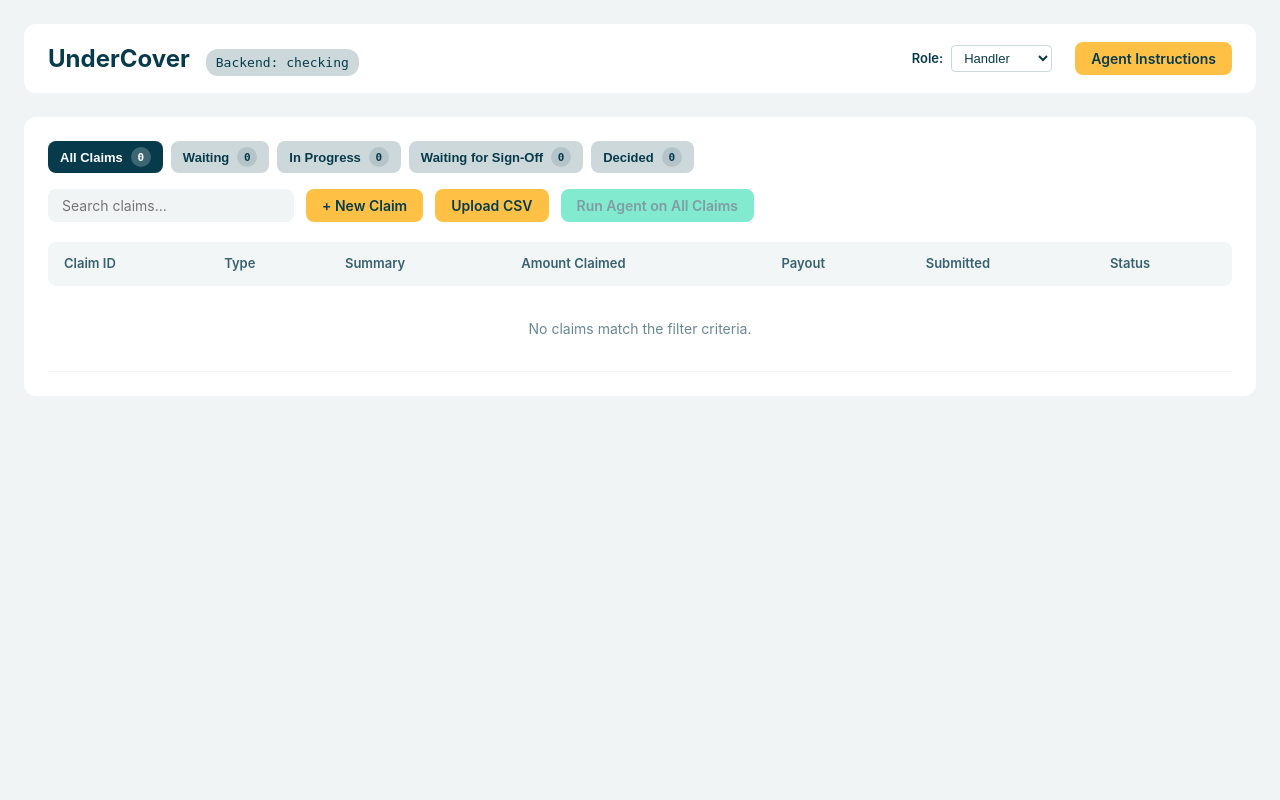
opens and closes the agent instructions modal
The image size is (1280, 800).
Click the button "Agent Instructions". click: [1154, 58]
box: left=1075, top=42, right=1232, bottom=75
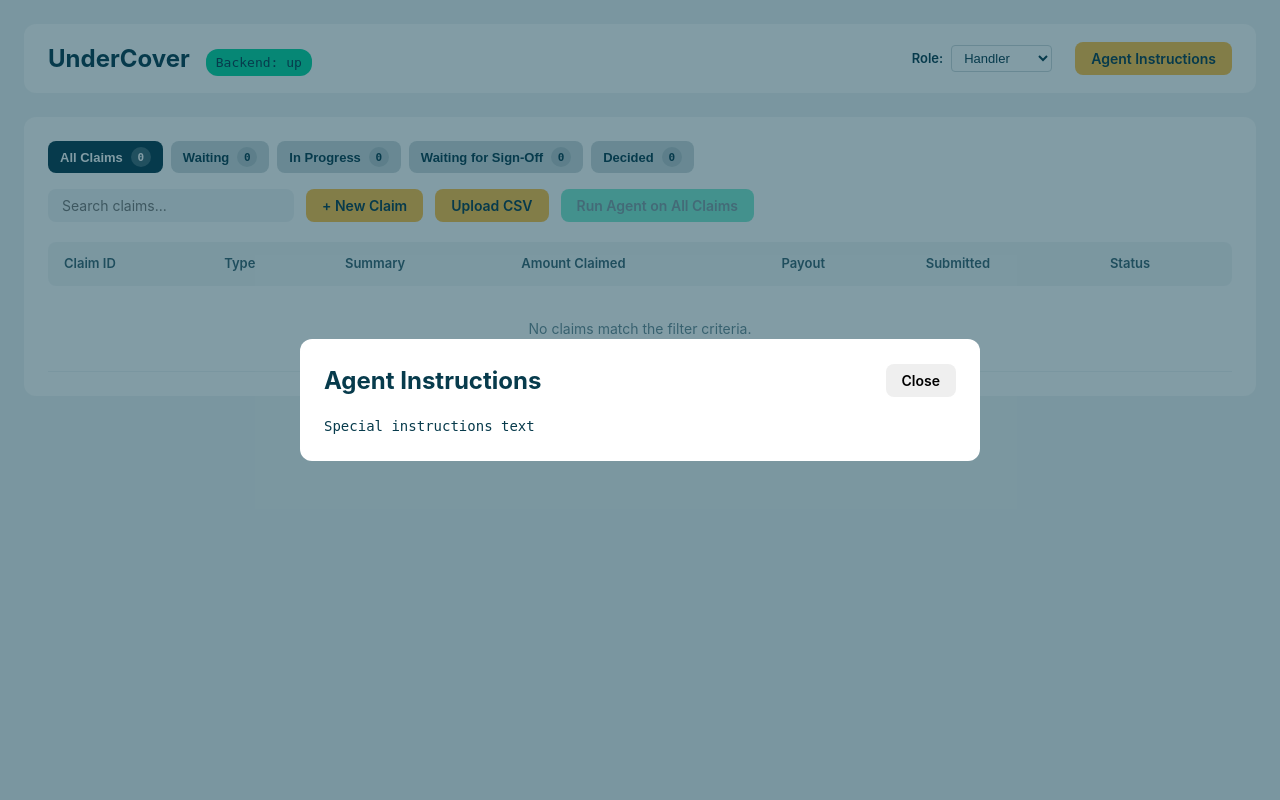
Expected: the text "Special instructions text" is shown, left=324, top=418, right=535, bottom=434
Click the button "Close". click: [921, 381]
box: left=886, top=364, right=956, bottom=397
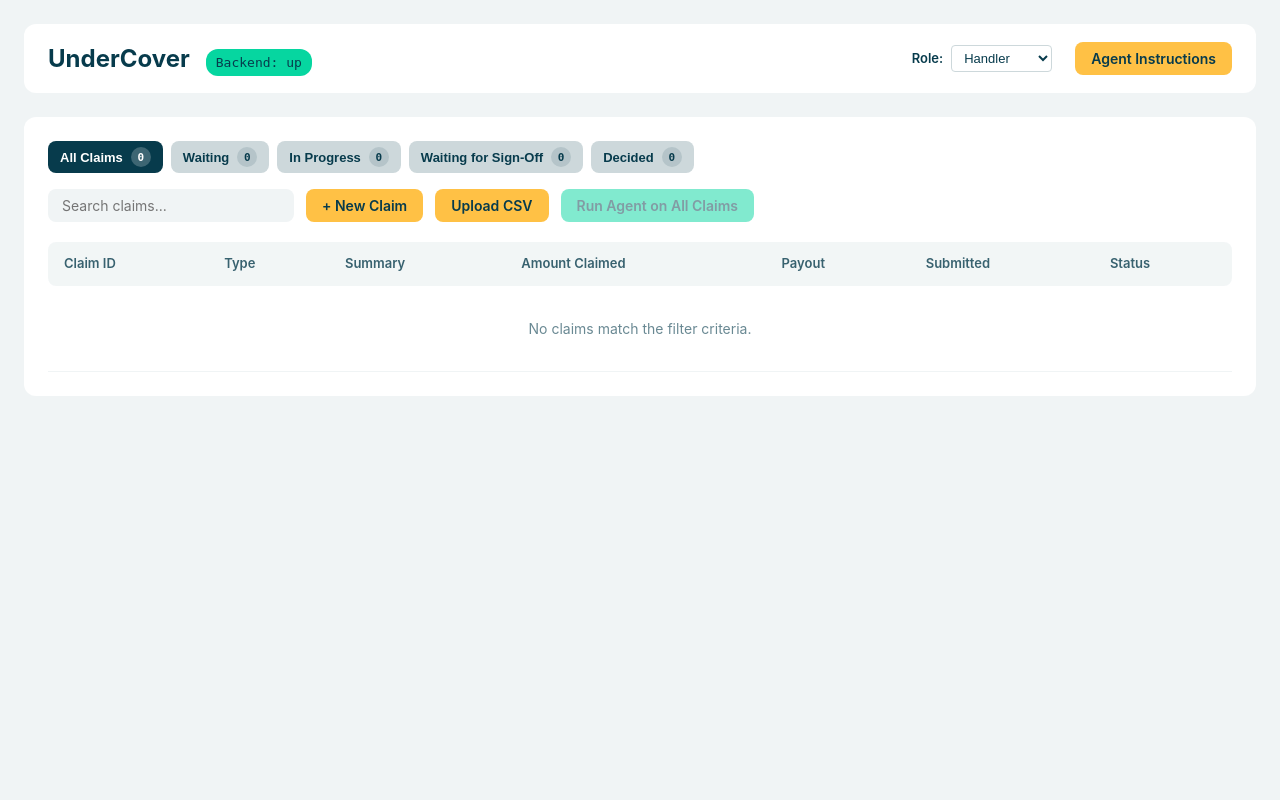
Expected: the text "Special instructions text" is gone
